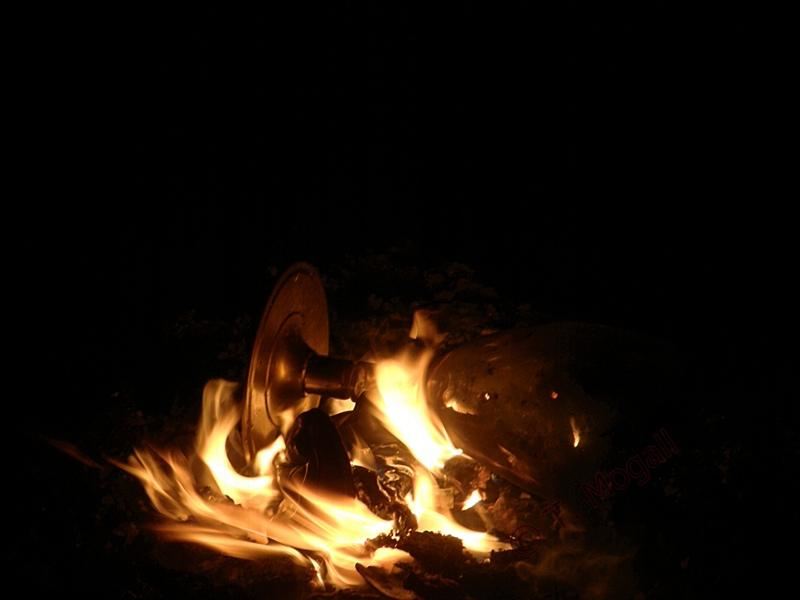fire: (384, 363, 470, 471), (200, 421, 286, 499)
